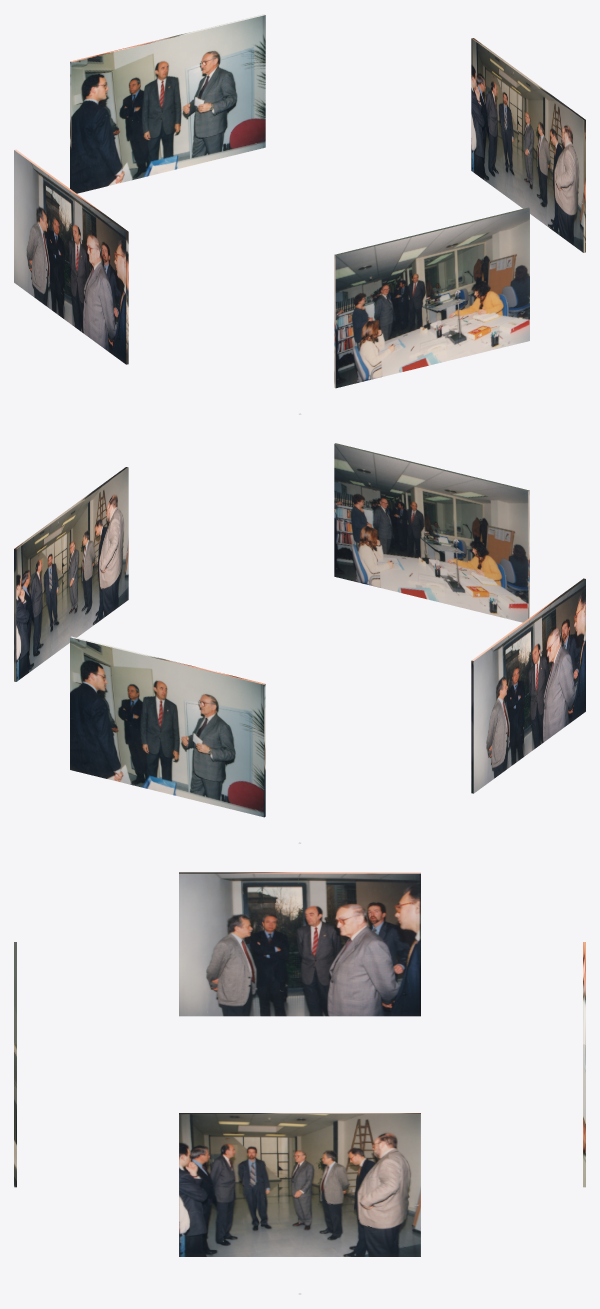
The model's file is bundle004.glb.
3 views of the same model, one above another, from view 1: azimuth 30°, elevation 25°; view 2: azimuth 150°, elevation 25°; view 3: azimuth 270°, elevation 25° (orthographic). The views are drawn at different scales.
Parts seen in each view (by area): view 1: Board 004, Board 002, Board 003, Board 001; view 2: Board 002, Board 004, Board 003, Board 001; view 3: Board 003, Board 001, Board 002, Board 004.
Boxes of the visible parts, bbox=[...] form: Board 004: bbox=[334, 207, 529, 388]; Board 002: bbox=[70, 14, 265, 193]; Board 003: bbox=[14, 149, 128, 364]; Board 001: bbox=[471, 38, 585, 252]; Board 002: bbox=[70, 636, 265, 817]; Board 004: bbox=[334, 443, 529, 622]; Board 003: bbox=[471, 578, 585, 793]; Board 001: bbox=[14, 467, 128, 681]; Board 003: bbox=[179, 872, 420, 1016]; Board 001: bbox=[179, 1113, 420, 1256]; Board 002: bbox=[583, 942, 585, 1187]; Board 004: bbox=[14, 942, 16, 1187].
Size of the model in its own units: 4.02 by 2.33 by 4.02.
4 materials, 4 textured.
